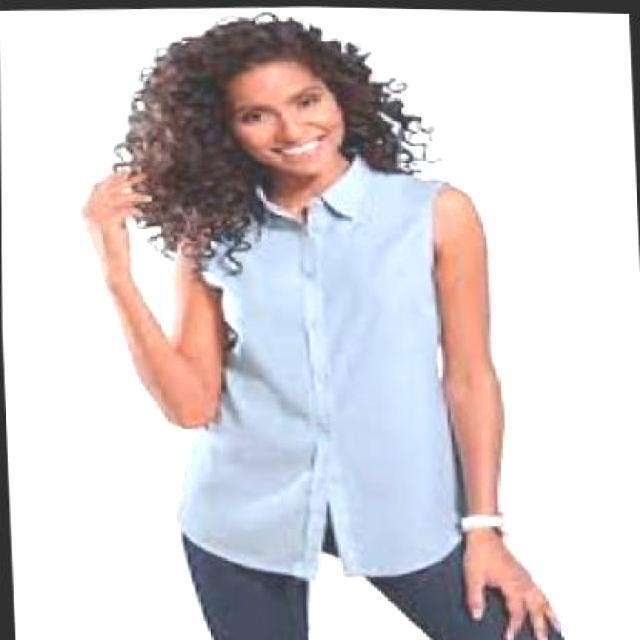no_vest: (160, 141, 468, 585)
